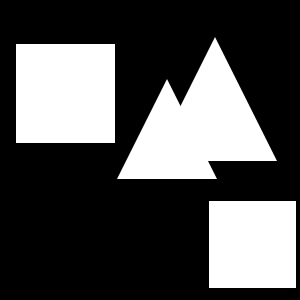circle: (16, 44, 115, 143), (209, 201, 296, 288)
triangle: (153, 37, 277, 161), (117, 79, 217, 179)
